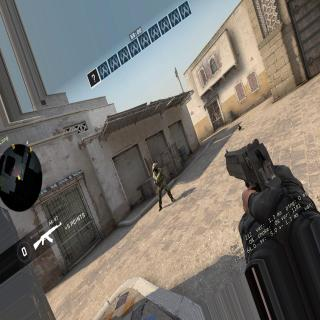CT-Body: (152, 160, 170, 208)
CT-Head: (152, 162, 157, 173)
